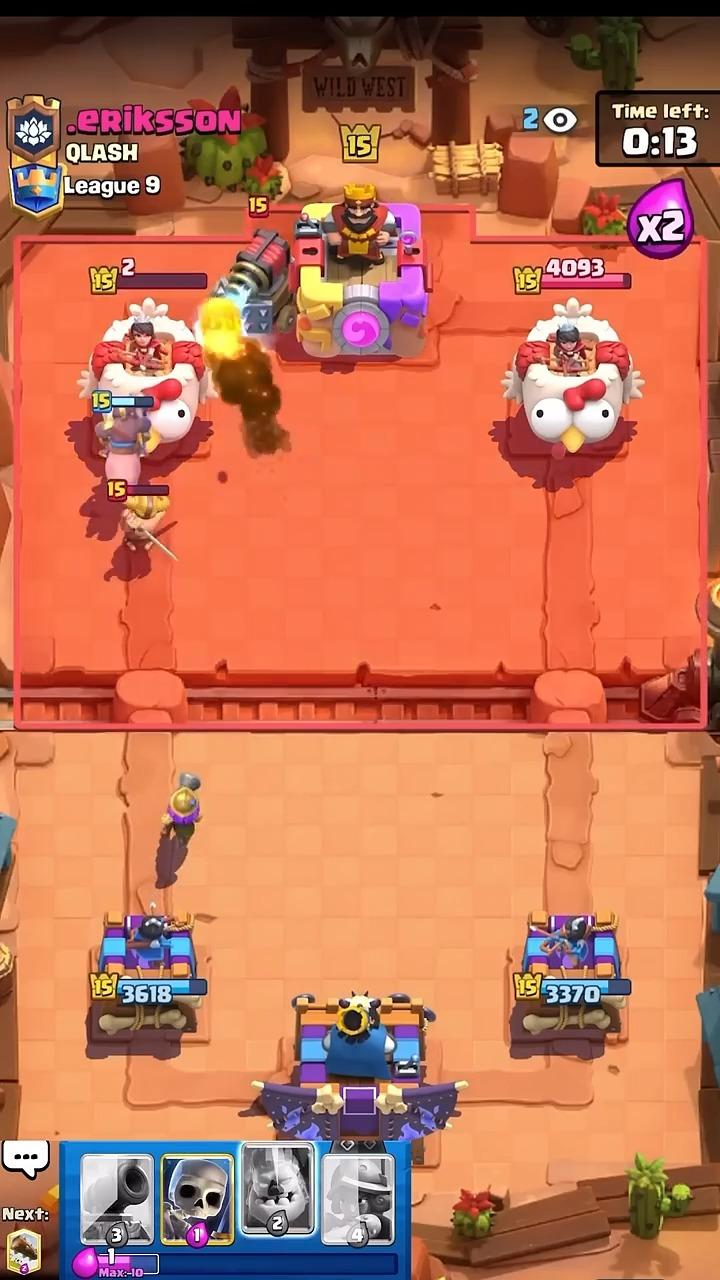elite barbarians: (121, 496, 169, 553)
fireball: (200, 298, 288, 455)
hog rider: (95, 407, 150, 487)
musketeer: (161, 774, 201, 849)
sparky: (211, 230, 294, 338)
